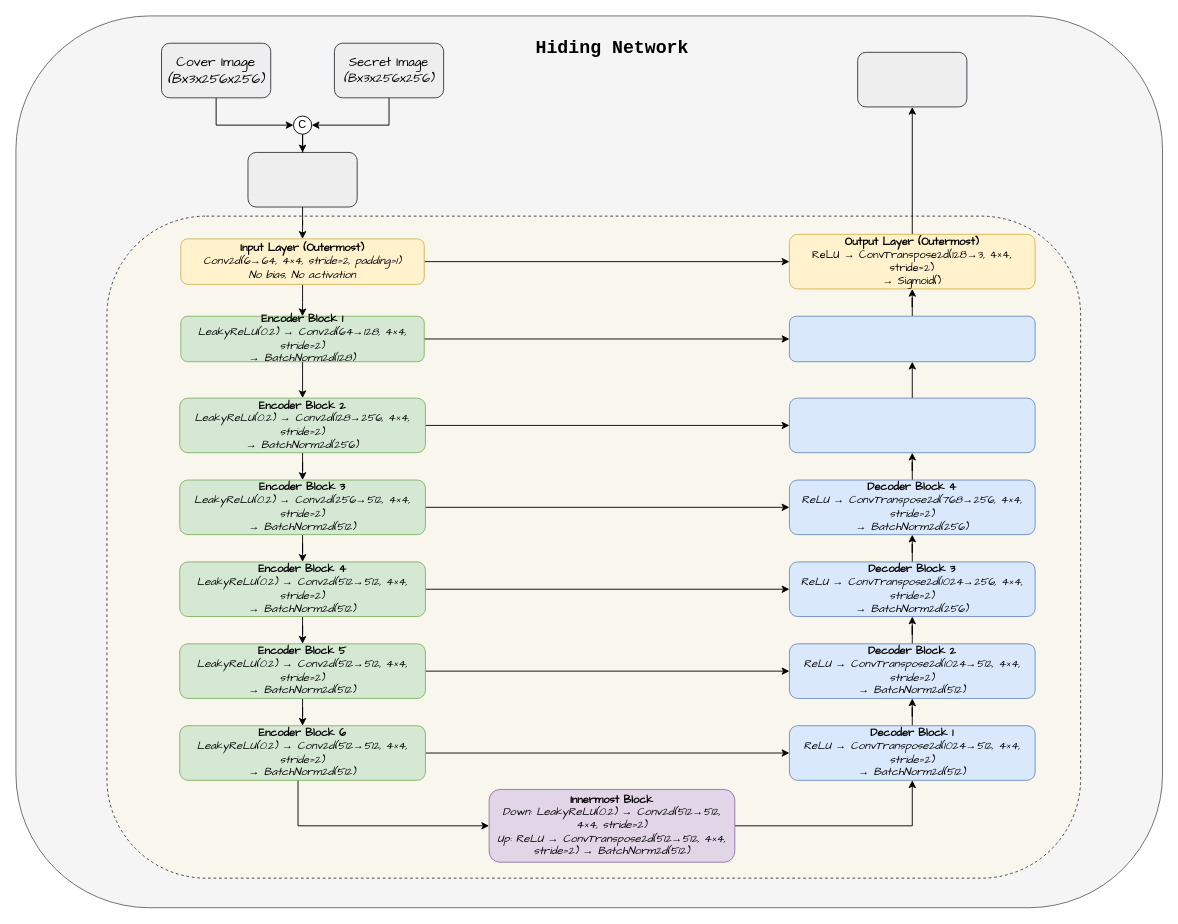
Some shapes in this 1178 by 924 pixel diagram are drawn without their labels. The box of each missing label's shape, as (x1, y1, x2, y2) in pixels:
Container Image (Bx3x256x256): (857, 51, 967, 107)
Decoder Block 5 ReLU → ConvTranspose2d(512→64, 4×4, stride=2) → BatchNorm2d(64): (789, 397, 1035, 453)
Decoder Block 6 ReLU → ConvTranspose2d(192→64, 4×4, stride=2) → BatchNorm2d(64): (789, 315, 1035, 362)
Input Image (Bx6x256x256): (247, 152, 357, 207)
